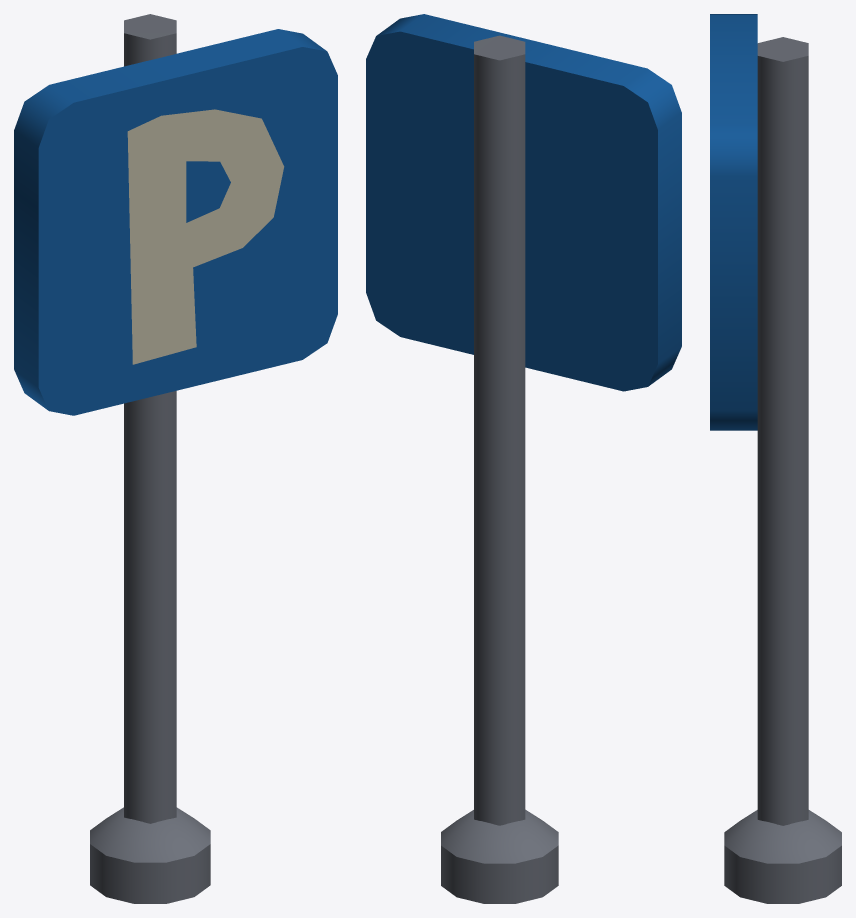
The model's file is roadsign_v2.fbx.
The picture shows the model from 3 angles, left to right: view 1: azimuth 30°, elevation 25°; view 2: azimuth 150°, elevation 25°; view 3: azimuth 270°, elevation 25°; orthographic projection. The views are drawn at different scales.
Visible parts, largest first — view 1: roadsign_v2; view 2: roadsign_v2; view 3: roadsign_v2.
Part boxes in pixels (left/top/right/bottom): roadsign_v2: left=14, top=14, right=337, bottom=903; roadsign_v2: left=366, top=14, right=681, bottom=903; roadsign_v2: left=710, top=14, right=841, bottom=903.
Size of the model in its own units: 103 by 280 by 40.28.
